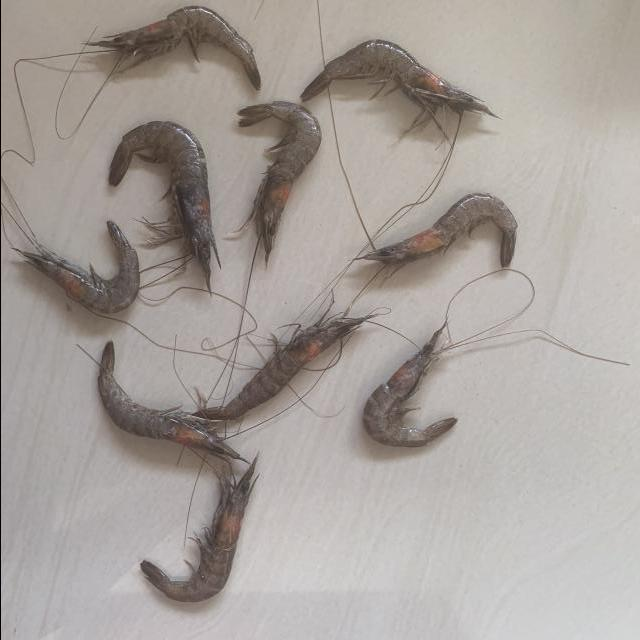shrimp: (191, 315, 375, 422), (107, 121, 219, 291), (300, 39, 498, 129), (139, 455, 257, 604), (96, 342, 243, 461), (85, 5, 259, 89), (237, 100, 320, 263), (362, 321, 457, 448), (10, 221, 138, 314), (356, 193, 516, 267)
